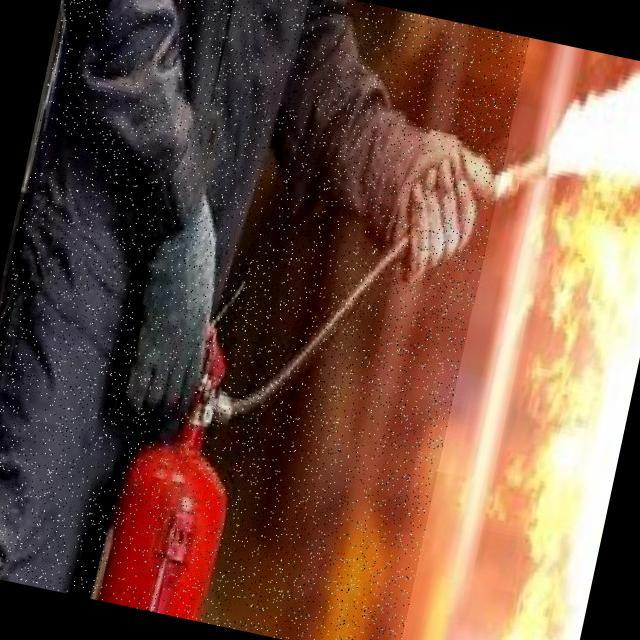Gloves: (101, 182, 248, 439), (363, 113, 509, 306)
